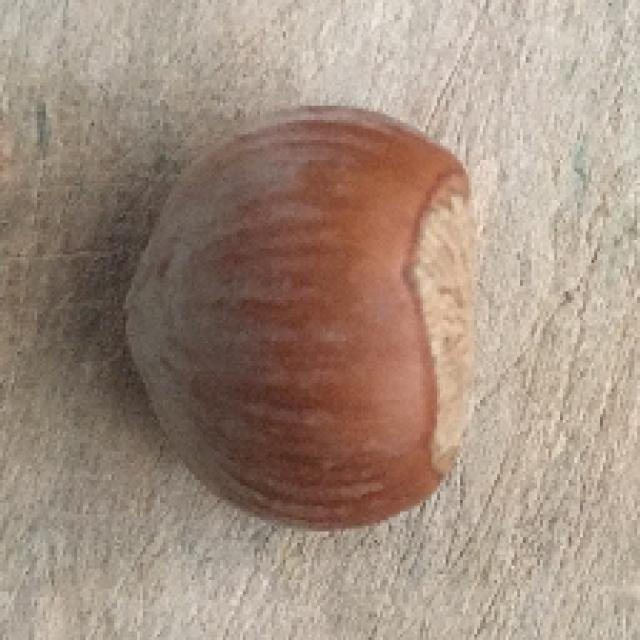QualityHazelnut: (117, 104, 488, 534)
